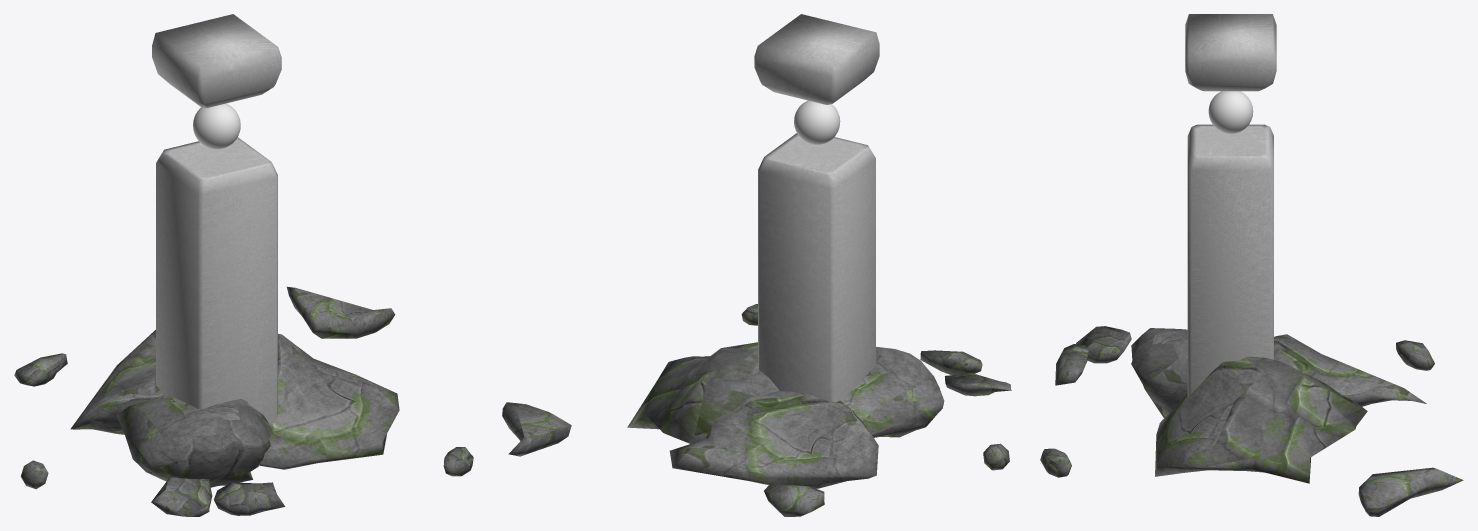
Rendered from Altar.fbx.
The picture shows the model from 3 angles, left to right: view 1: azimuth 30°, elevation 25°; view 2: azimuth 150°, elevation 25°; view 3: azimuth 270°, elevation 25°; orthographic projection. The views are drawn at different scales.
Parts seen in each view (by area): view 1: BaseAltar, PiedraaAltar, EsferaAltar; view 2: BaseAltar, PiedraaAltar, EsferaAltar; view 3: PiedraaAltar, BaseAltar, EsferaAltar.
Boxes of the visible parts, box(x1,y1,x2,y2) form: BaseAltar: box(152, 14, 281, 424); PiedraaAltar: box(14, 286, 473, 516); EsferaAltar: box(193, 103, 240, 149); BaseAltar: box(754, 14, 879, 402); PiedraaAltar: box(502, 304, 1011, 516); EsferaAltar: box(794, 100, 840, 144); PiedraaAltar: box(1040, 326, 1463, 516); BaseAltar: box(1185, 14, 1276, 396); EsferaAltar: box(1208, 91, 1253, 133).
Bounding box in the file's own units: 1121 × 996 × 984.
3 materials, 2 textured.
